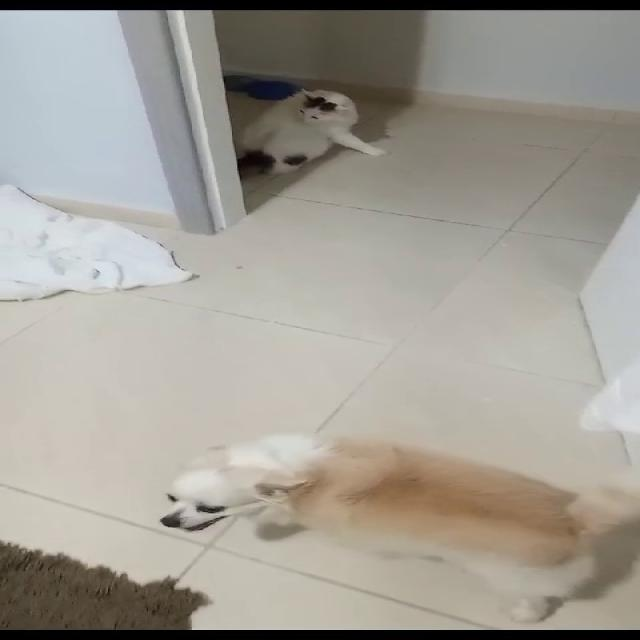Simba: (222, 75, 386, 195)
Theo: (147, 388, 638, 640)
